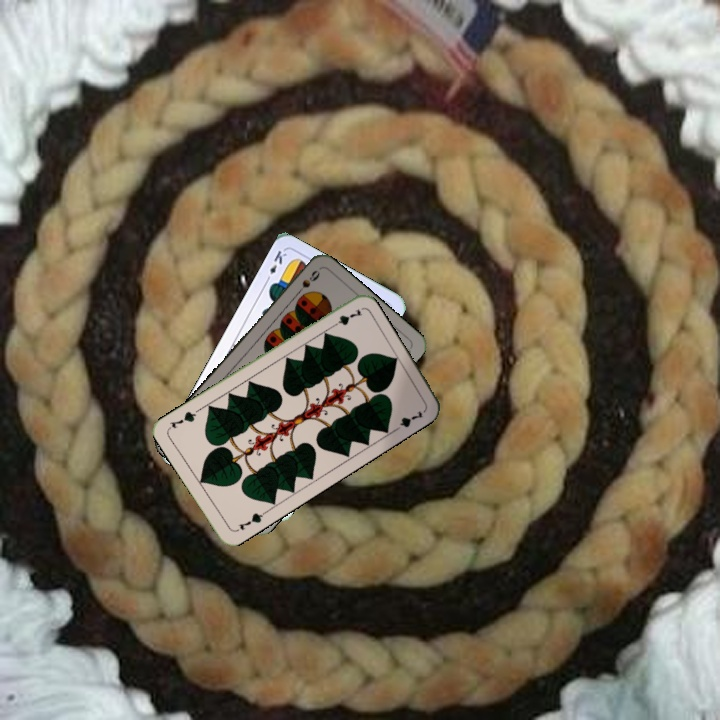EK: (261, 246, 289, 285)
G7: (326, 305, 365, 331), (231, 508, 268, 534)
S9: (291, 266, 322, 299)
